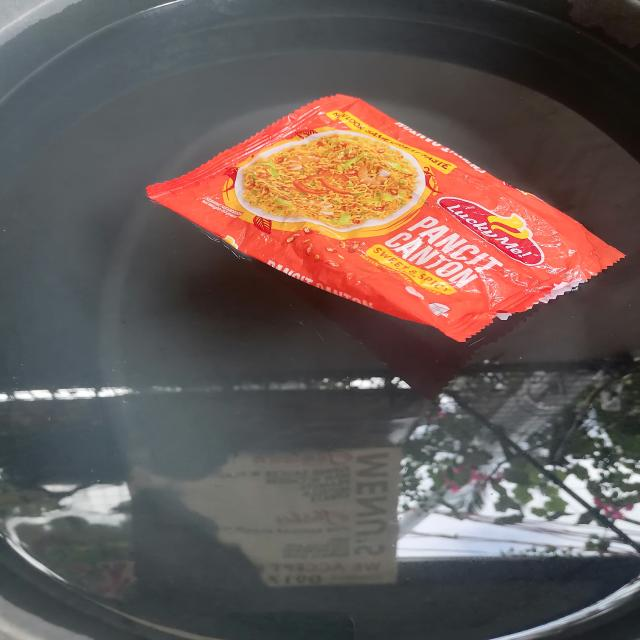Plastic Wrapper: (115, 79, 640, 358)
